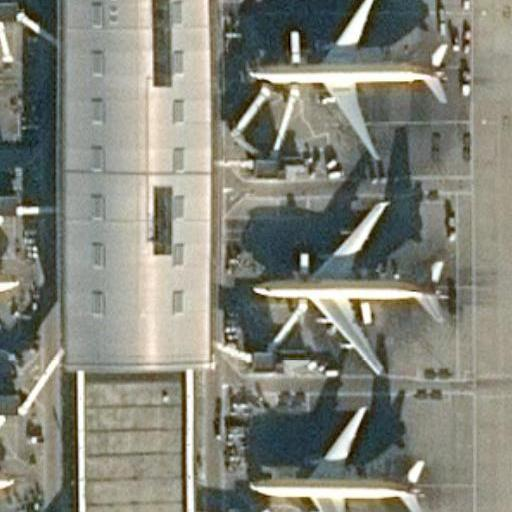Aircraft: (253, 199, 450, 374), (249, 0, 451, 159), (246, 404, 428, 512), (0, 197, 19, 371), (0, 401, 16, 512)
